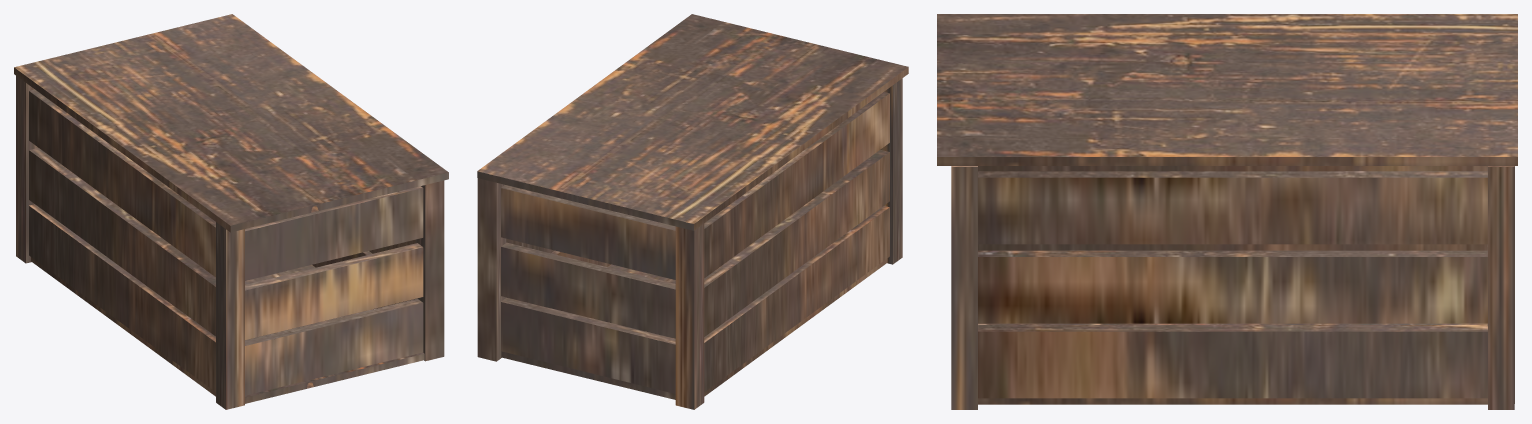
3 renders of one model, left to right at view 1: azimuth 30°, elevation 25°; view 2: azimuth 150°, elevation 25°; view 3: azimuth 270°, elevation 25°, orthographic. The views are drawn at different scales.
Visible parts, largest first — view 1: Cube.015; view 2: Cube.015; view 3: Cube.015.
Boxes of the visible parts, left/top/right/bottom form: Cube.015: left=14, top=14, right=448, bottom=409; Cube.015: left=477, top=14, right=908, bottom=409; Cube.015: left=937, top=14, right=1517, bottom=409.
Bounding box in the file's own units: 107 × 87.83 × 183.
Materials: 1 (1 with a texture image).
